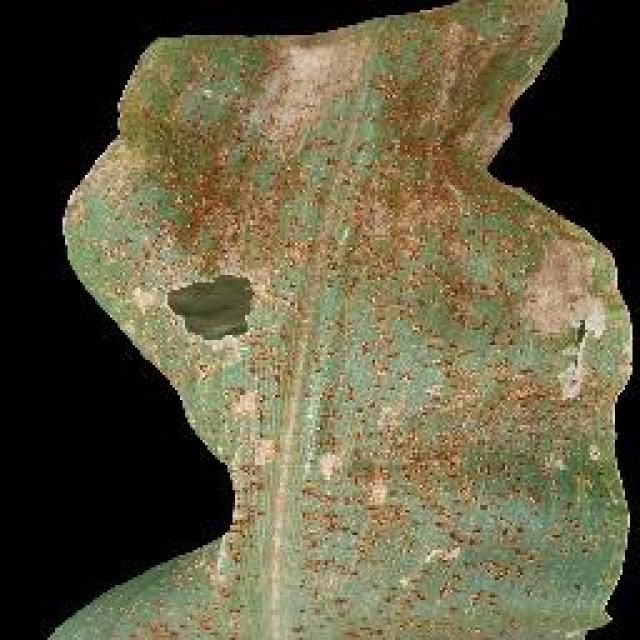Corn___Common_rust: (12, 5, 638, 640)
